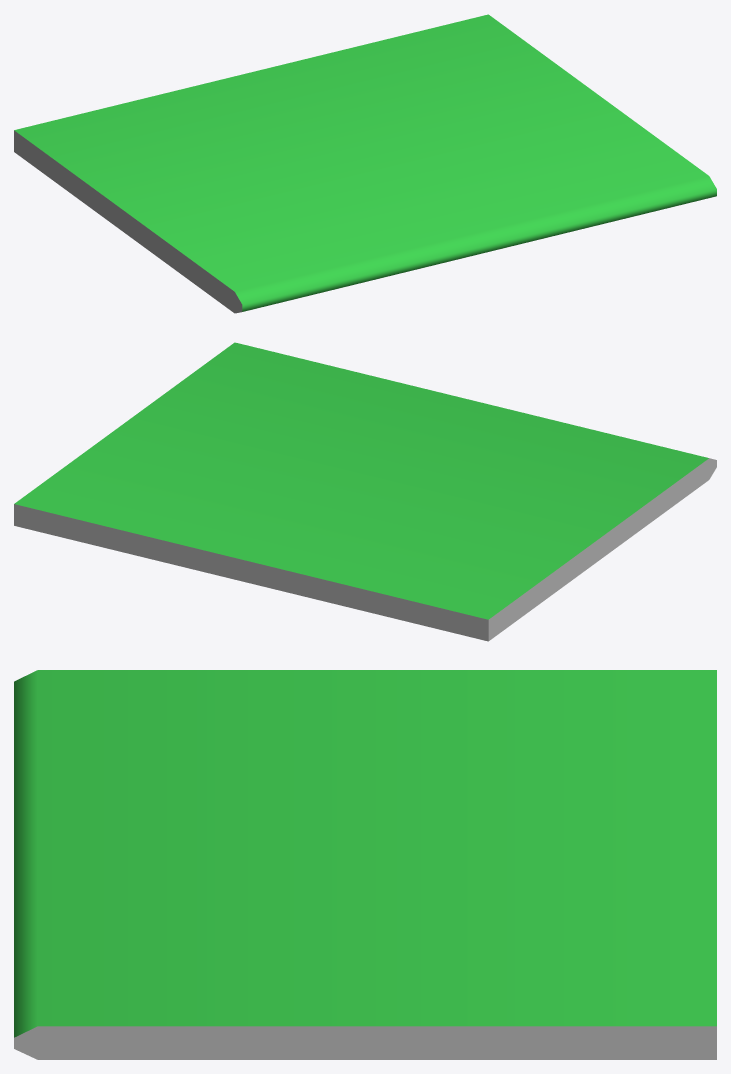
File: Notes.fbx
3 renders of one model, top to bottom at view 1: azimuth 30°, elevation 25°; view 2: azimuth 150°, elevation 25°; view 3: azimuth 270°, elevation 25°, orthographic. The views are drawn at different scales.
Parts seen in each view (by area): view 1: Cube; view 2: Cube; view 3: Cube.
Boxes of the visible parts, <box> form: Cube: <box>14,14,716,313</box>; Cube: <box>14,342,716,641</box>; Cube: <box>14,670,716,1059</box>.
Bounding box in the file's own units: 27.94 × 1.22 × 23.3.
